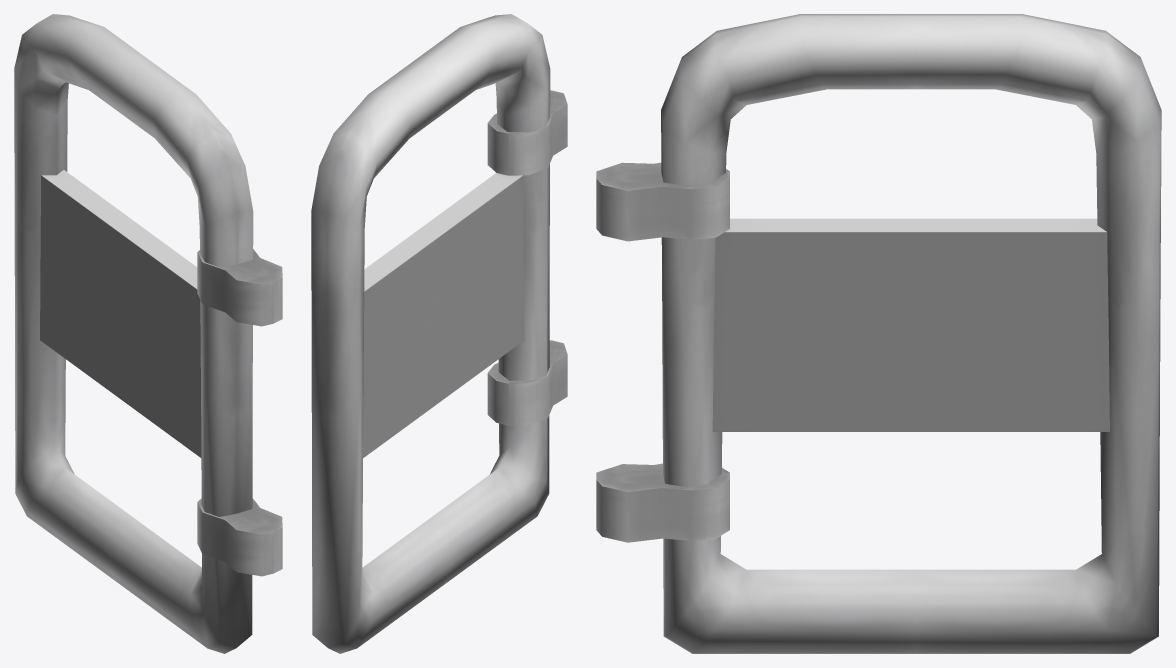
The picture shows the model from 3 angles, left to right: view 1: azimuth 30°, elevation 25°; view 2: azimuth 150°, elevation 25°; view 3: azimuth 270°, elevation 25°; orthographic projection. The views are drawn at different scales.
Parts seen in each view (by area): view 1: Object02; view 2: Object02; view 3: Object02.
Part boxes in pixels (x1=…): Object02: x1=14, y1=14, x2=282, y2=653; Object02: x1=311, y1=14, x2=567, y2=653; Object02: x1=596, y1=14, x2=1161, y2=653.
Bounding box in the file's own units: 0.466 × 3.43 × 4.27.
